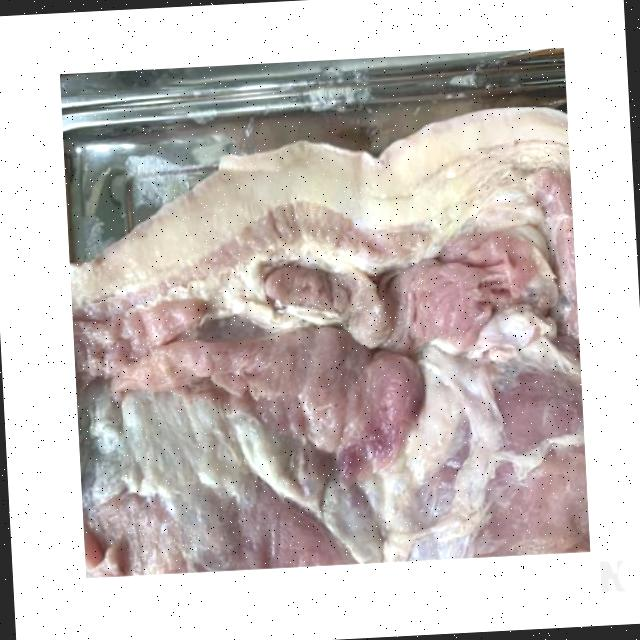rotten meat: (34, 16, 616, 592)
